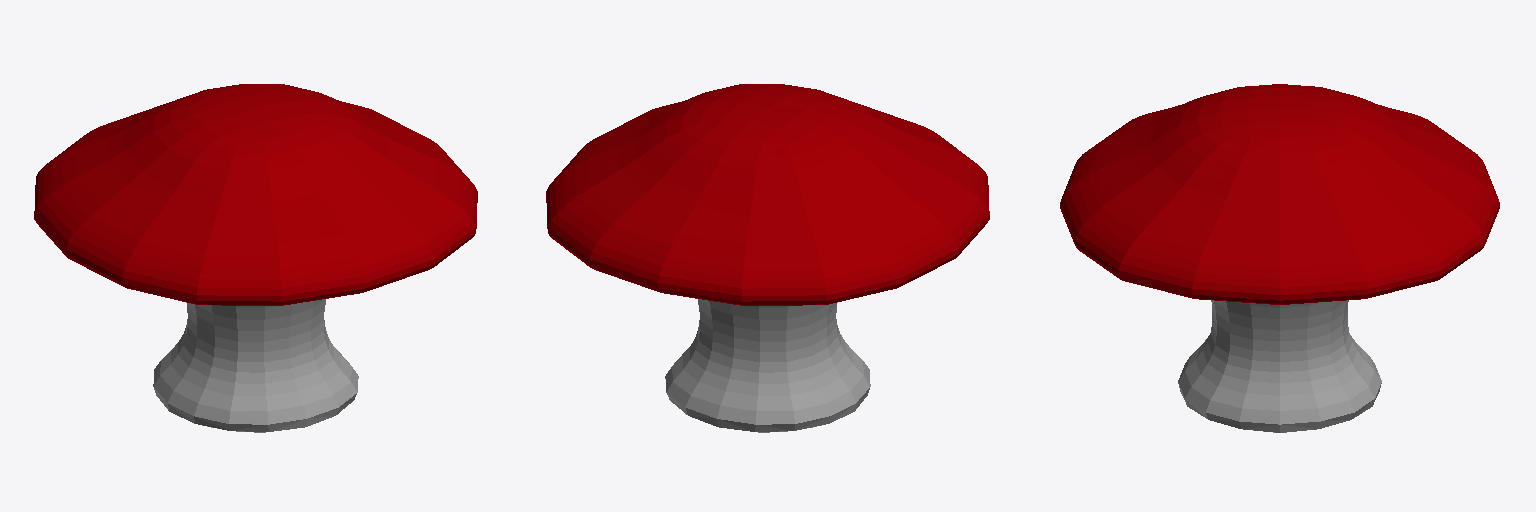
The model's file is basicmushroom.obj.
3 renders of one model, left to right at view 1: azimuth 30°, elevation 25°; view 2: azimuth 150°, elevation 25°; view 3: azimuth 270°, elevation 25°, orthographic.
Parts seen in each view (by area): view 1: Cube; view 2: Cube; view 3: Cube.
Boxes of the visible parts, x1=… form: Cube: x1=34, y1=84, x2=477, y2=432; Cube: x1=546, y1=84, x2=989, y2=432; Cube: x1=1060, y1=84, x2=1499, y2=432.
Size of the model in its own units: 0.6355 by 0.4712 by 0.6355.